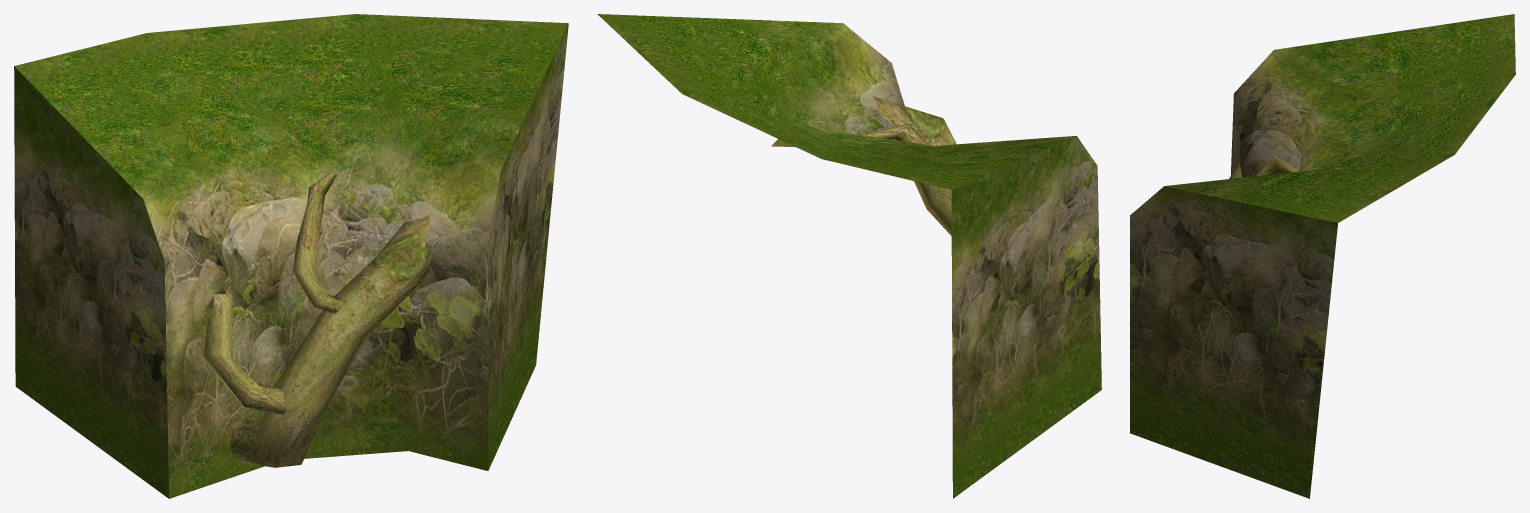
File: n_tilewallA_4.glb
3 renders of one model, left to right at view 1: azimuth 30°, elevation 25°; view 2: azimuth 150°, elevation 25°; view 3: azimuth 270°, elevation 25°, orthographic. The views are drawn at different scales.
Visible parts, largest first — view 1: n_tilewallA_4; view 2: n_tilewallA_4; view 3: n_tilewallA_4.
Part boxes in pixels (left/top/right/bottom): n_tilewallA_4: left=14, top=14, right=568, bottom=498; n_tilewallA_4: left=597, top=14, right=1101, bottom=498; n_tilewallA_4: left=1130, top=14, right=1515, bottom=498.
Size of the model in its own units: 5.14 by 3.41 by 4.01.
Materials: 2 (2 with a texture image).
